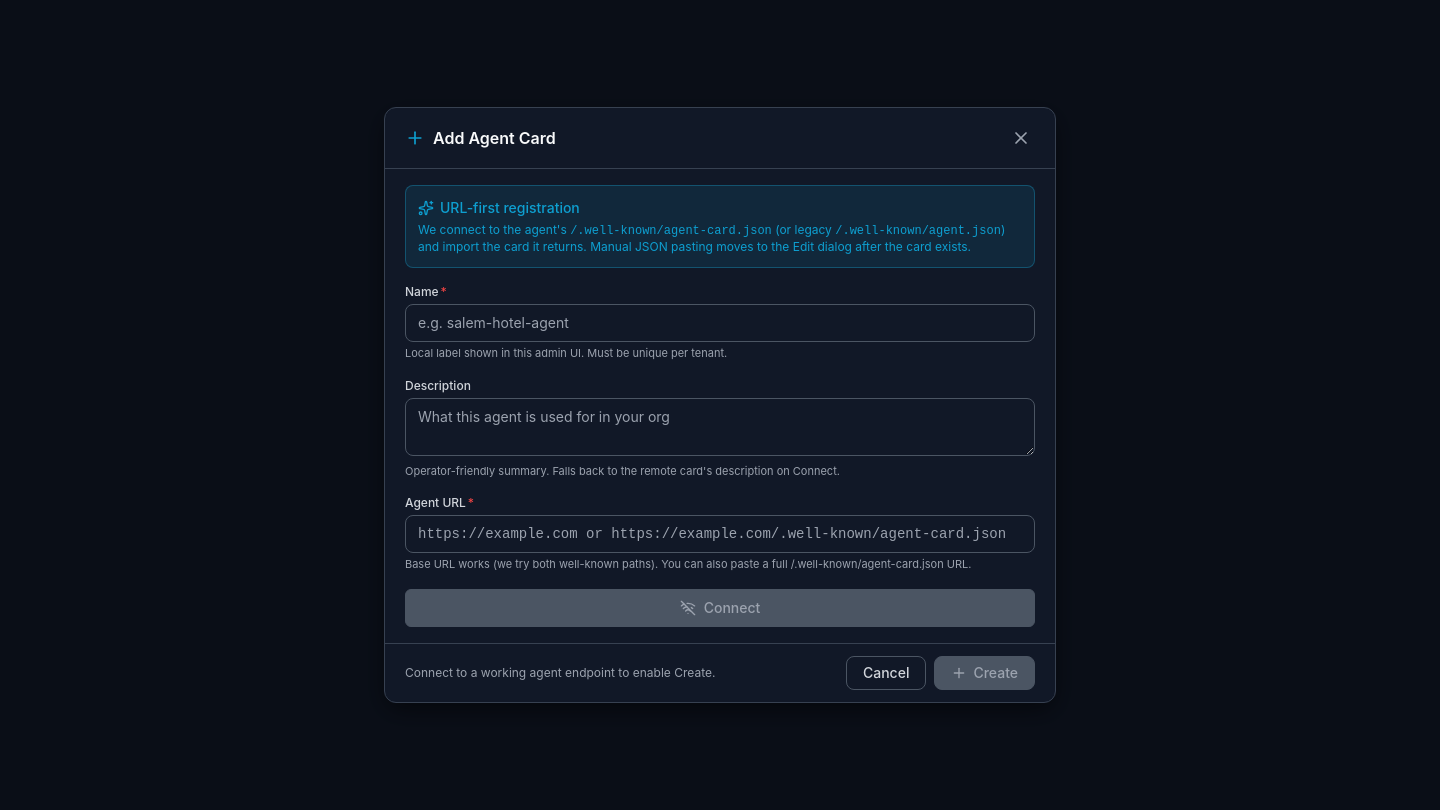
AgentCardCreateDialog › previews what was discovered, before anything is saved
The image size is (1440, 810).
Replace the text in the 2nd field with "https://hotel.test" at (720, 534), box x1=405 y1=515 x2=1035 y2=553
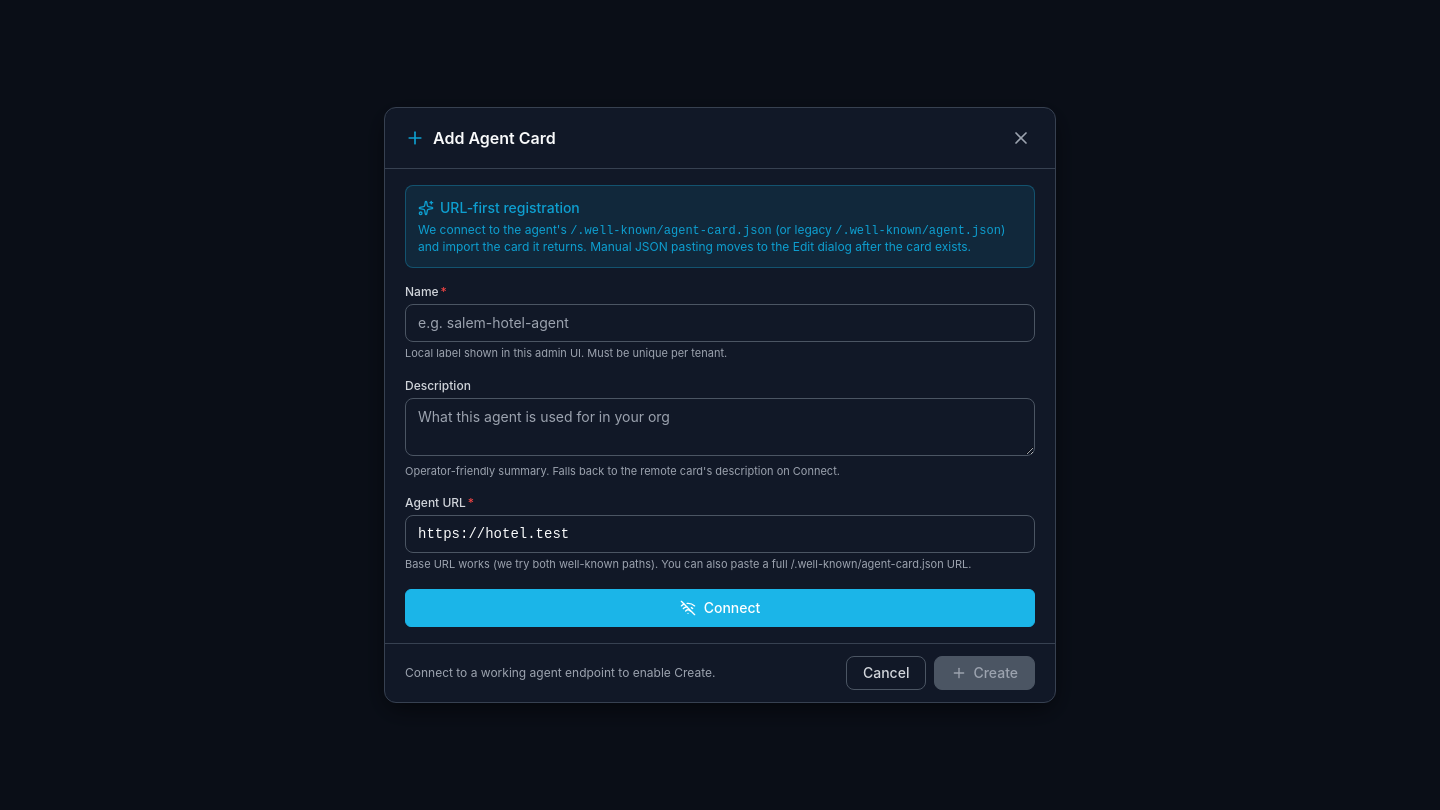
Click the button "Connect" at (720, 608), box x1=405 y1=589 x2=1035 y2=627
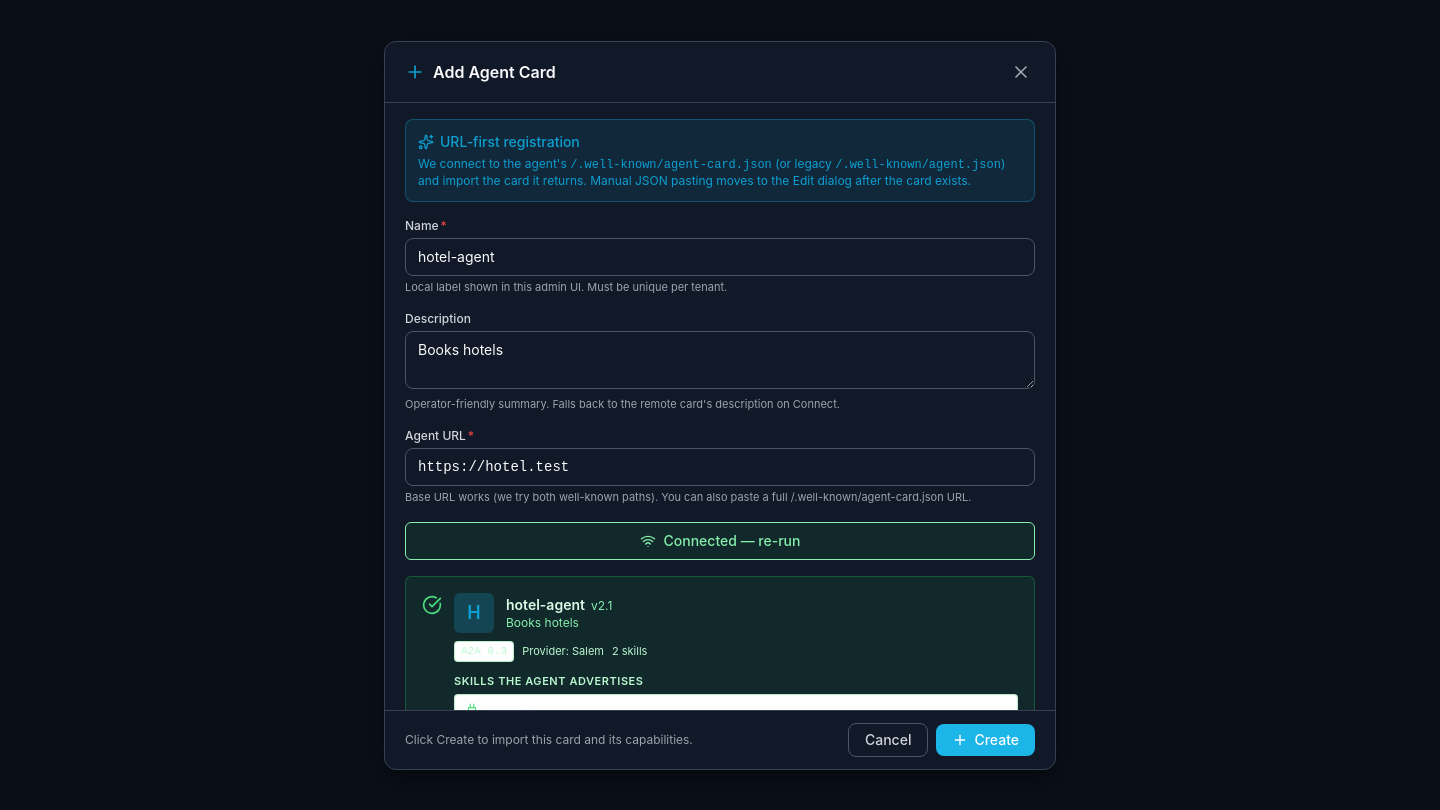
Expected: the button "Connected — re-run" is enabled, x1=405 y1=522 x2=1035 y2=560
Expected: the text "A2A 0.3" is shown, x1=454 y1=641 x2=514 y2=662
Expected: the text "Provider: Salem" is shown, x1=522 y1=644 x2=604 y2=659
